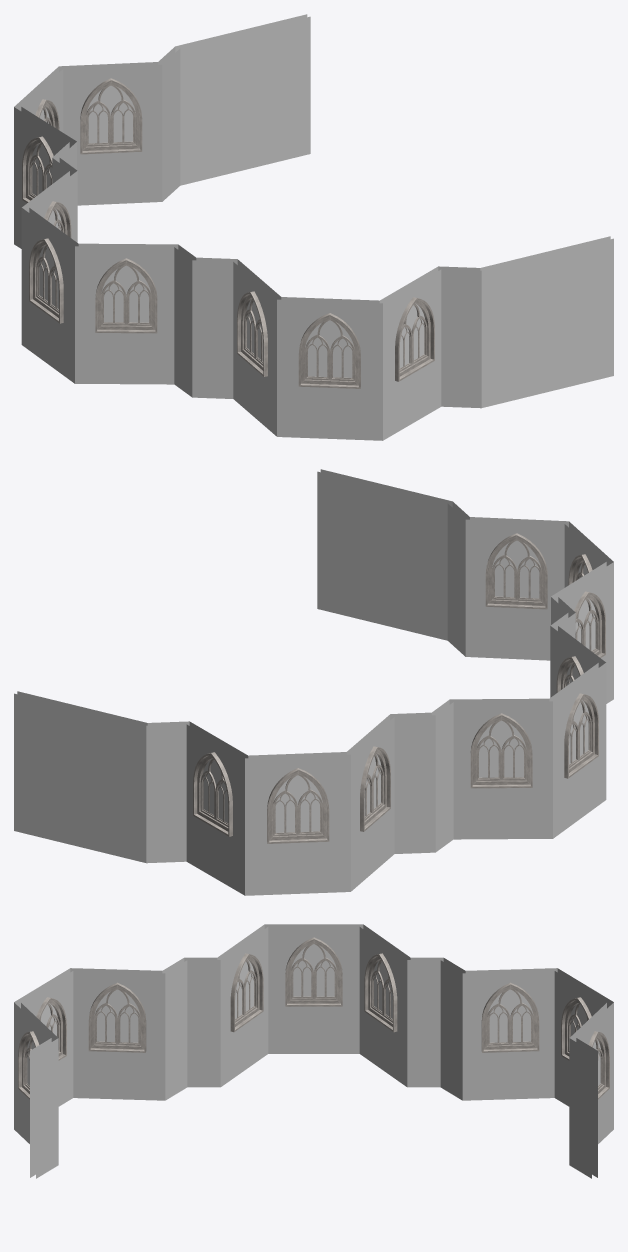
The model's file is Ambulatory_Outer_C_A.fbx.
The picture shows the model from 3 angles, top to bottom: view 1: azimuth 30°, elevation 25°; view 2: azimuth 150°, elevation 25°; view 3: azimuth 270°, elevation 25°; orthographic projection. The views are drawn at different scales.
Visible parts, largest first — view 1: Ambulatory_Outer_C_A; view 2: Ambulatory_Outer_C_A; view 3: Ambulatory_Outer_C_A.
Boxes of the visible parts, left/top/right/bottom form: Ambulatory_Outer_C_A: left=14, top=14, right=613, bottom=440; Ambulatory_Outer_C_A: left=14, top=469, right=613, bottom=895; Ambulatory_Outer_C_A: left=14, top=924, right=613, bottom=1178.
Bounding box in the file's own units: 19.02 × 25.64 × 6.
